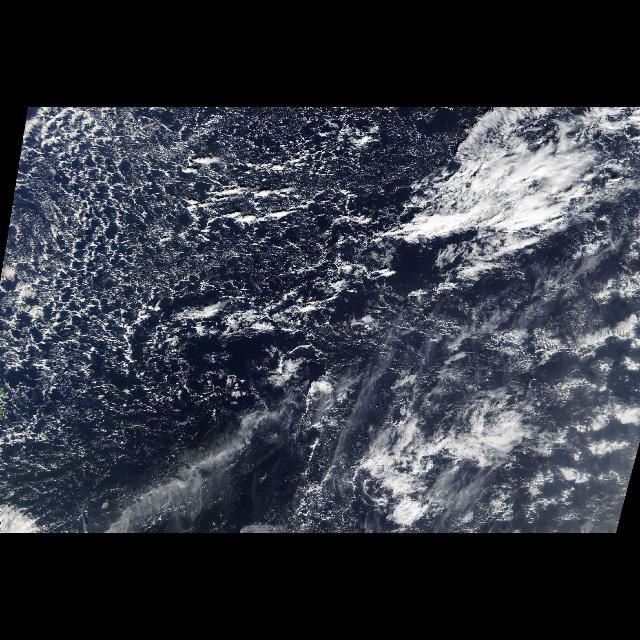Gravel: (27, 110, 286, 396)
